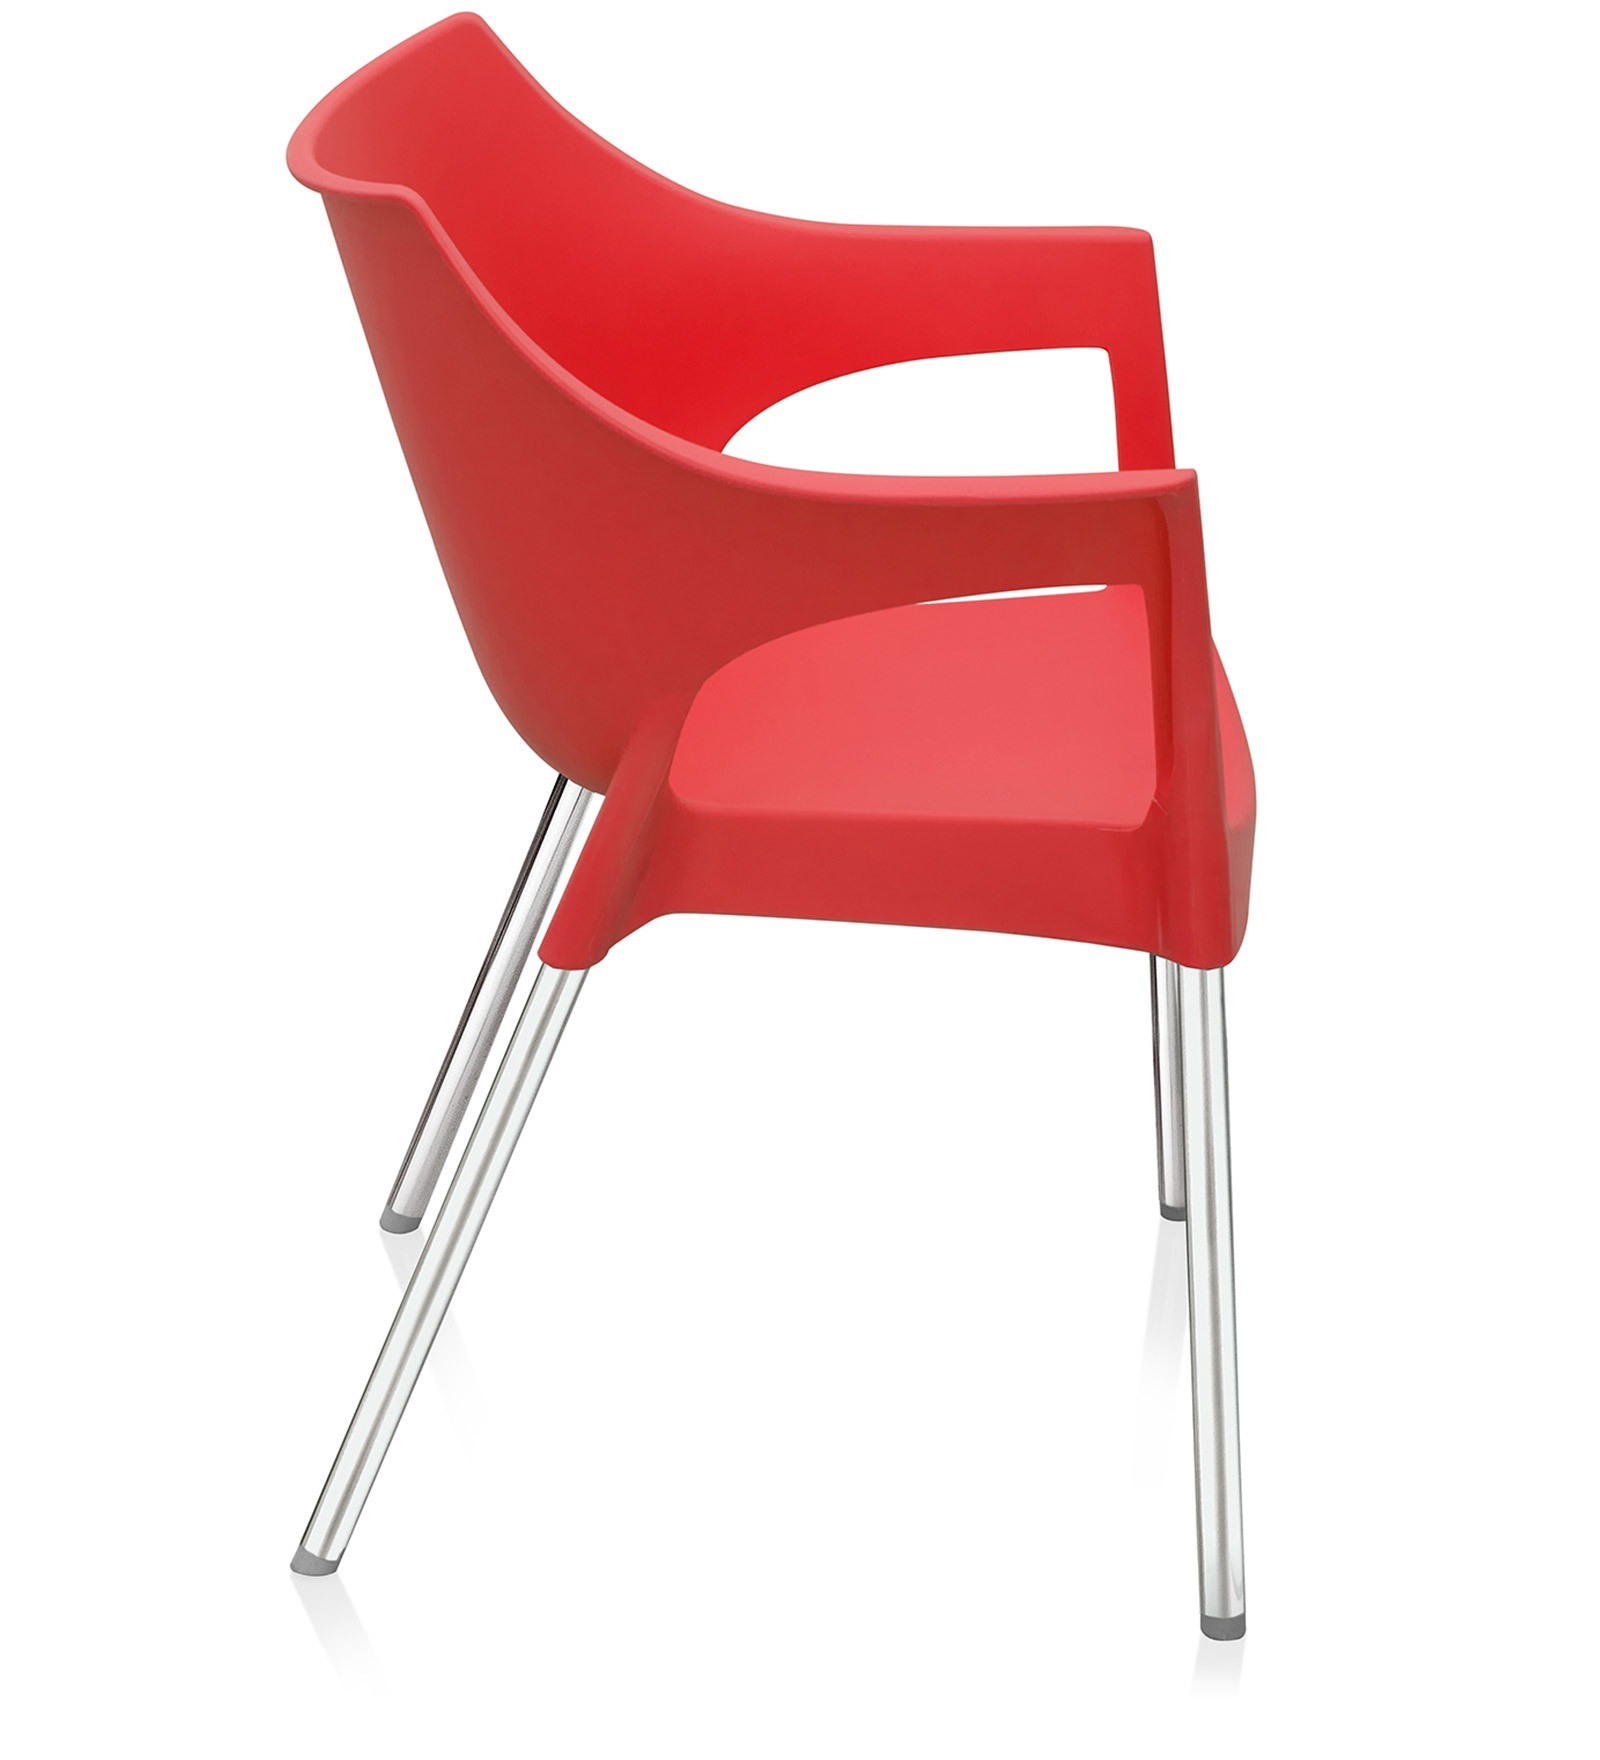Novella Series - 10 Set of 2 Chairs in Red Color by Nilkamal: (274, 5, 1278, 1643)
